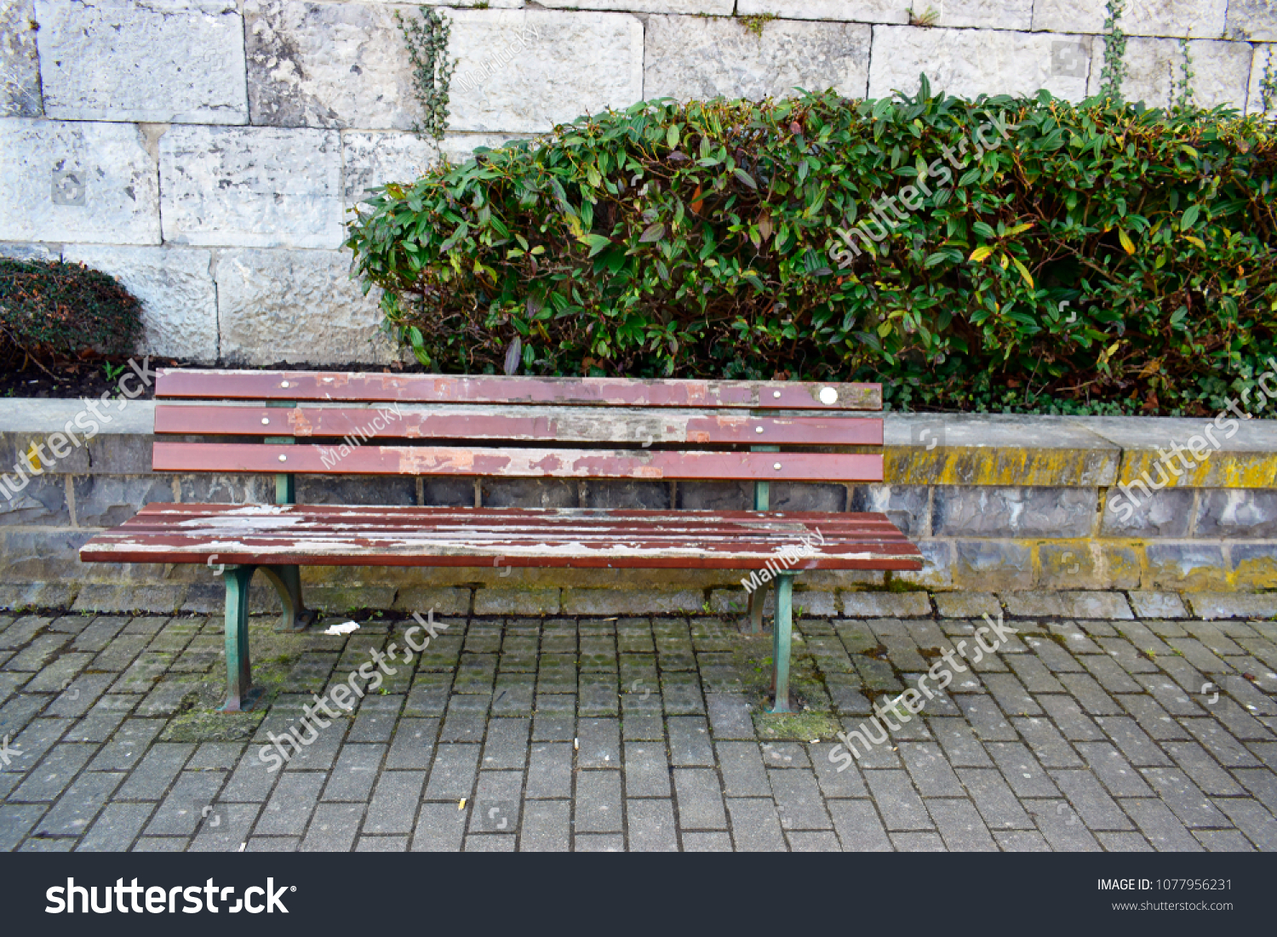Chair: (77, 356, 936, 739)
